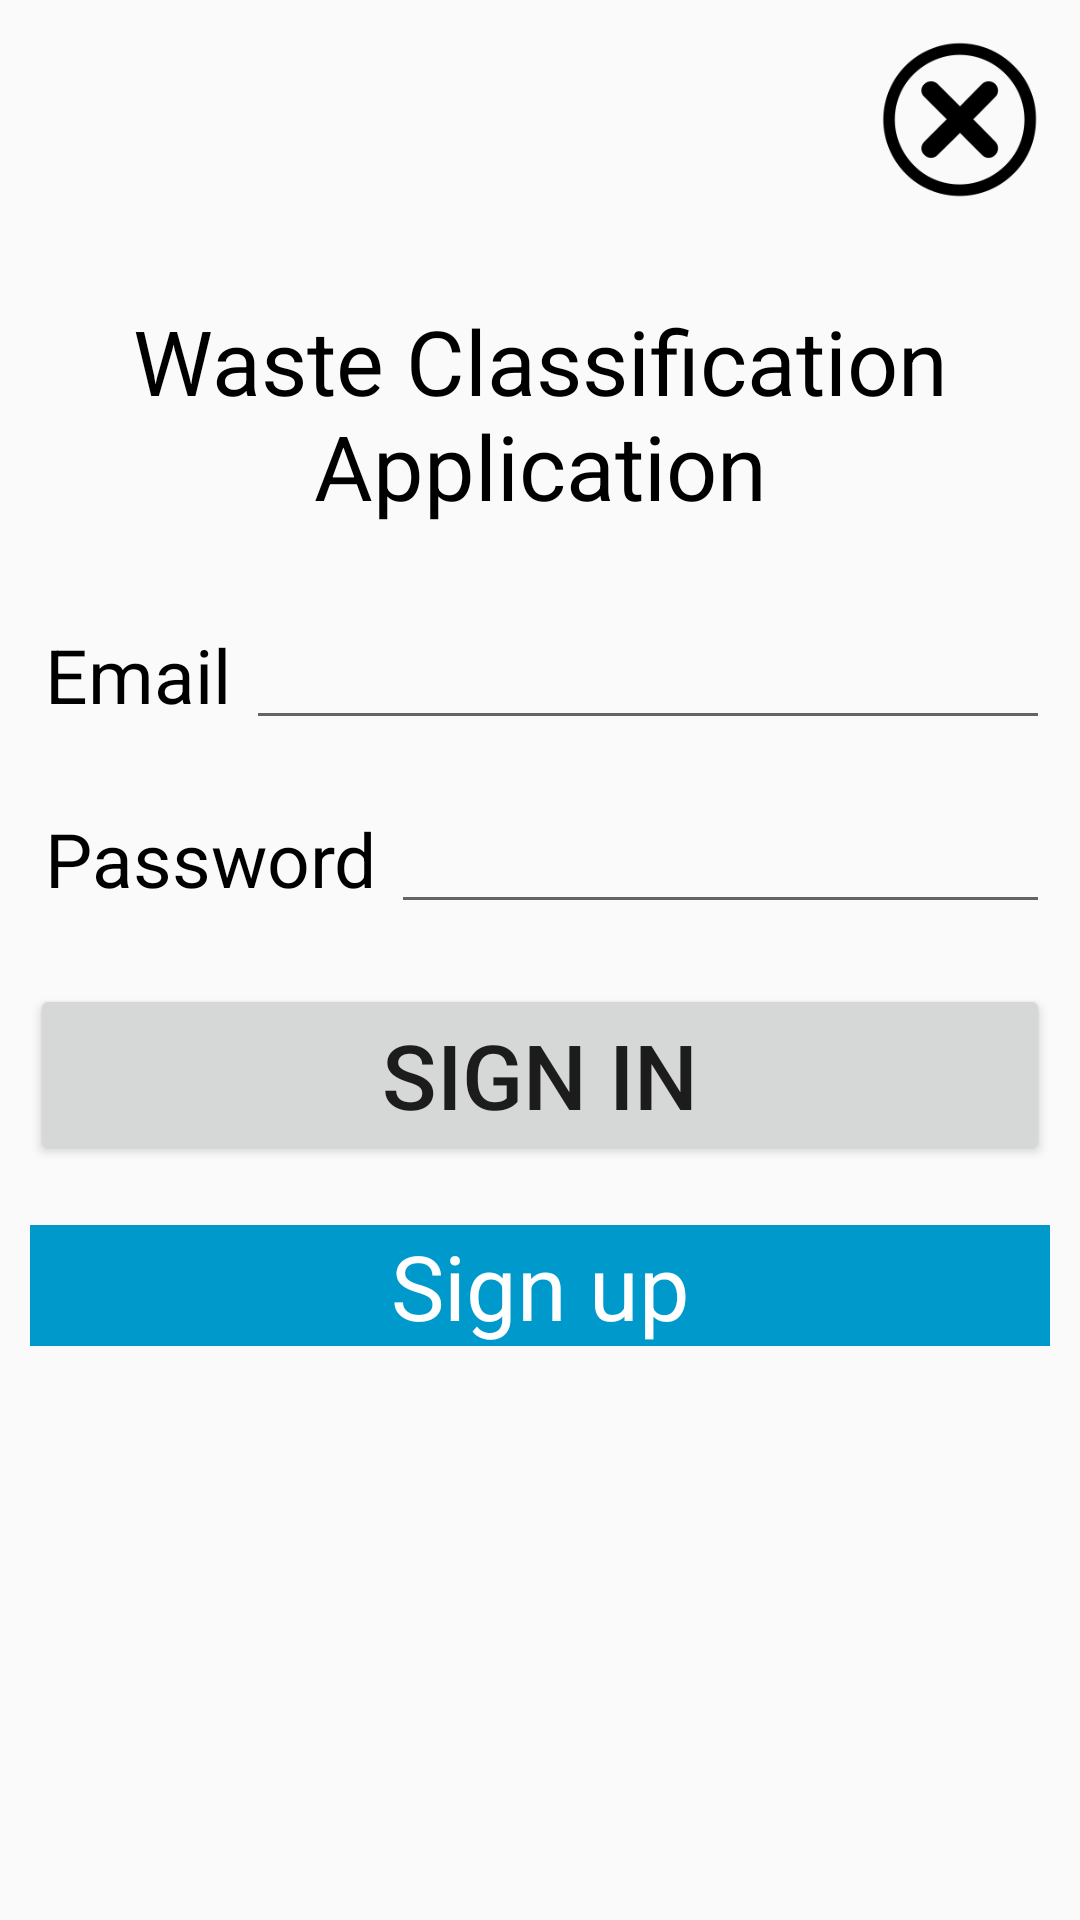

Where to tap for icons on this 1080px×1920px app screen, as [x,y]:
guanbi: [960,120]
